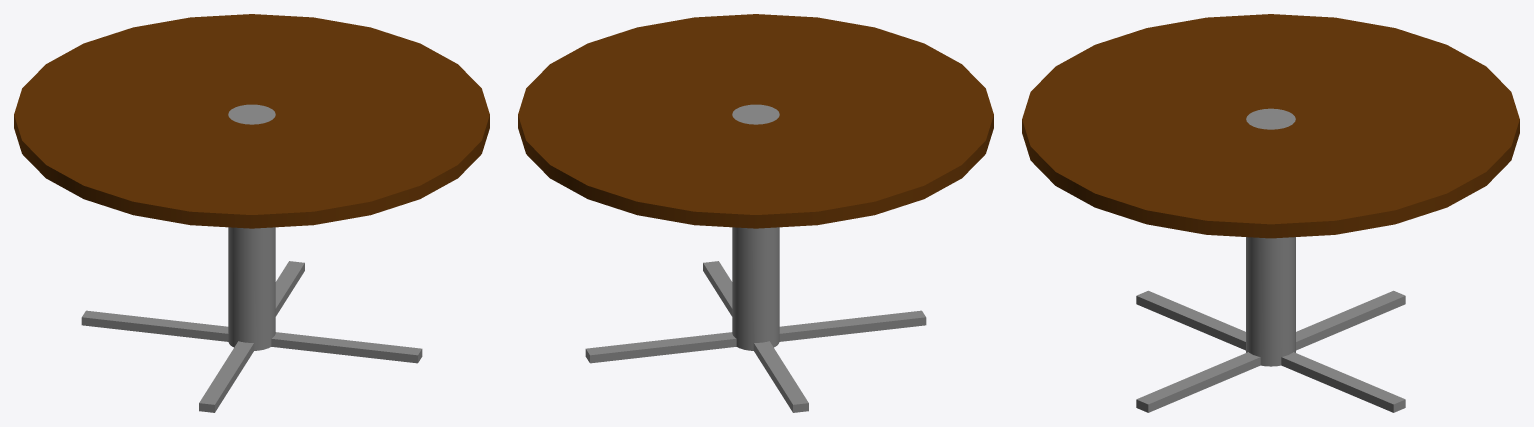
File: Dinner_table.fbx
3 views of the same model, side by side, from view 1: azimuth 30°, elevation 25°; view 2: azimuth 150°, elevation 25°; view 3: azimuth 270°, elevation 25° (orthographic). The views are drawn at different scales.
Visible parts, largest first — view 1: Model; view 2: Model; view 3: Model.
Part boxes in pixels (box(x1,y1,x2,y2)): Model: box(14, 14, 489, 412); Model: box(518, 14, 993, 412); Model: box(1022, 14, 1519, 412).
Size of the model in its own units: 160 by 84 by 160.
